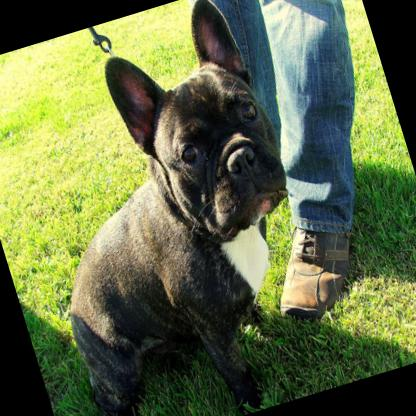French_bulldog: (0, 0, 350, 416)
